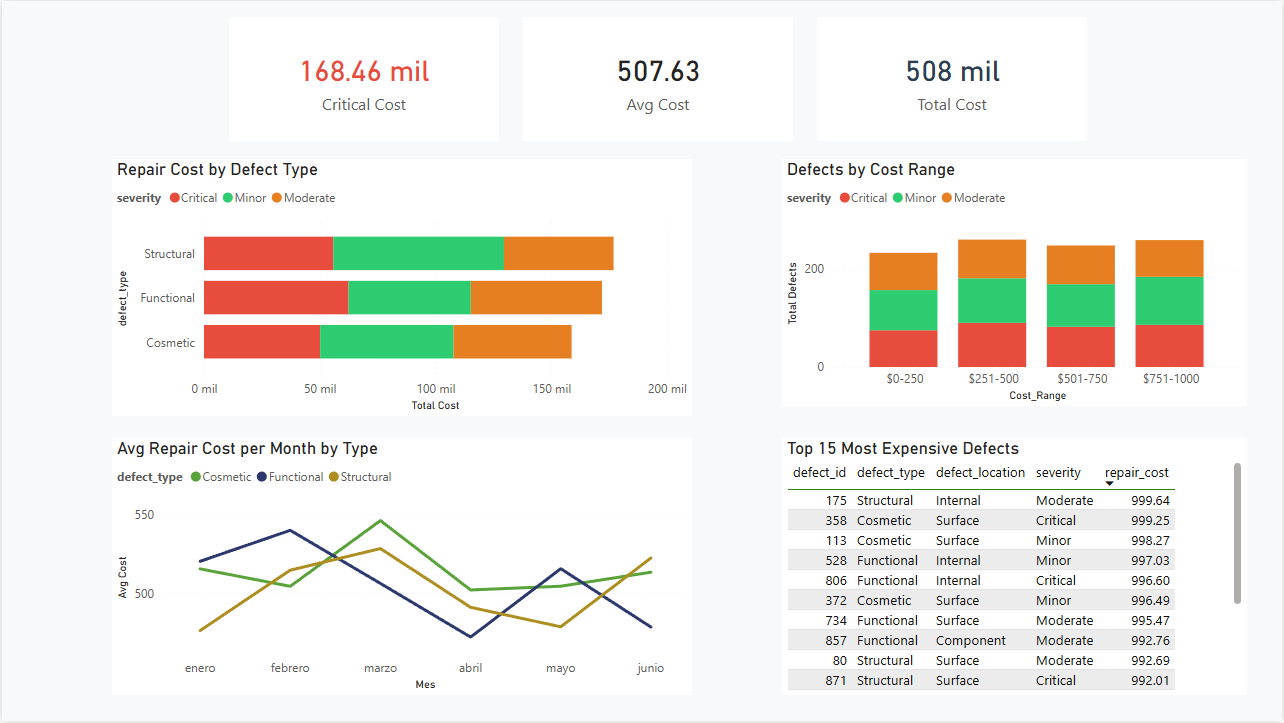

The dashboard page shown, as its layout file describes it:
{"tool":"powerbi","page":{"name":"Cost Impact","canvas":[1280,720],"ordinal":2},"visuals":[{"type":"card","fields":{"Values":["manufacturing_defects_clean.Critical Cost"]},"box":[227,16,270,124],"z":0},{"type":"card","fields":{"Values":["manufacturing_defects_clean.Avg Cost"]},"box":[521,16,270,124],"z":1000},{"type":"card","fields":{"Values":["manufacturing_defects_clean.Total Cost"]},"box":[815,16,270,124],"z":2000},{"type":"barChart","title":"Repair Cost by Defect Type","fields":{"Category":["manufacturing_defects_clean.defect_type"],"Y":["manufacturing_defects_clean.Total Cost"],"Series":["manufacturing_defects_clean.severity"]},"box":[110,158,580,257],"z":3000},{"type":"columnChart","title":"Defects by Cost Range","fields":{"Category":["manufacturing_defects_clean.Cost_Range"],"Y":["manufacturing_defects_clean.Total Defects"],"Series":["manufacturing_defects_clean.severity"]},"box":[780,158,465,247],"z":4000},{"type":"lineChart","title":"Avg Repair Cost per Month by Type","fields":{"Category":["Fechas.Date.Variación.Jerarquía de fechas.Mes"],"Y":["manufacturing_defects_clean.Avg Cost"],"Series":["manufacturing_defects_clean.defect_type"]},"box":[110,437,580,257],"z":5000},{"type":"tableEx","title":"Top 15 Most Expensive Defects","fields":{"Values":["manufacturing_defects_clean.defect_id","manufacturing_defects_clean.defect_type","manufacturing_defects_clean.defect_location","manufacturing_defects_clean.severity","manufacturing_defects_clean.repair_cost"]},"box":[780,437,465,257],"z":6000}]}

Visuals, with their boxes in screenshot pixels (x1, y1, x2, y2), scaled from the page's 1280x720 canvas onto the 1284x723 screenshot:
card - manufacturing_defects_clean.Critical Cost: rect(228, 16, 499, 141)
card - manufacturing_defects_clean.Avg Cost: rect(523, 16, 793, 141)
card - manufacturing_defects_clean.Total Cost: rect(818, 16, 1088, 141)
"Repair Cost by Defect Type" barChart: rect(110, 159, 692, 417)
"Defects by Cost Range" columnChart: rect(782, 159, 1249, 407)
"Avg Repair Cost per Month by Type" lineChart: rect(110, 439, 692, 697)
"Top 15 Most Expensive Defects" tableEx: rect(782, 439, 1249, 697)
